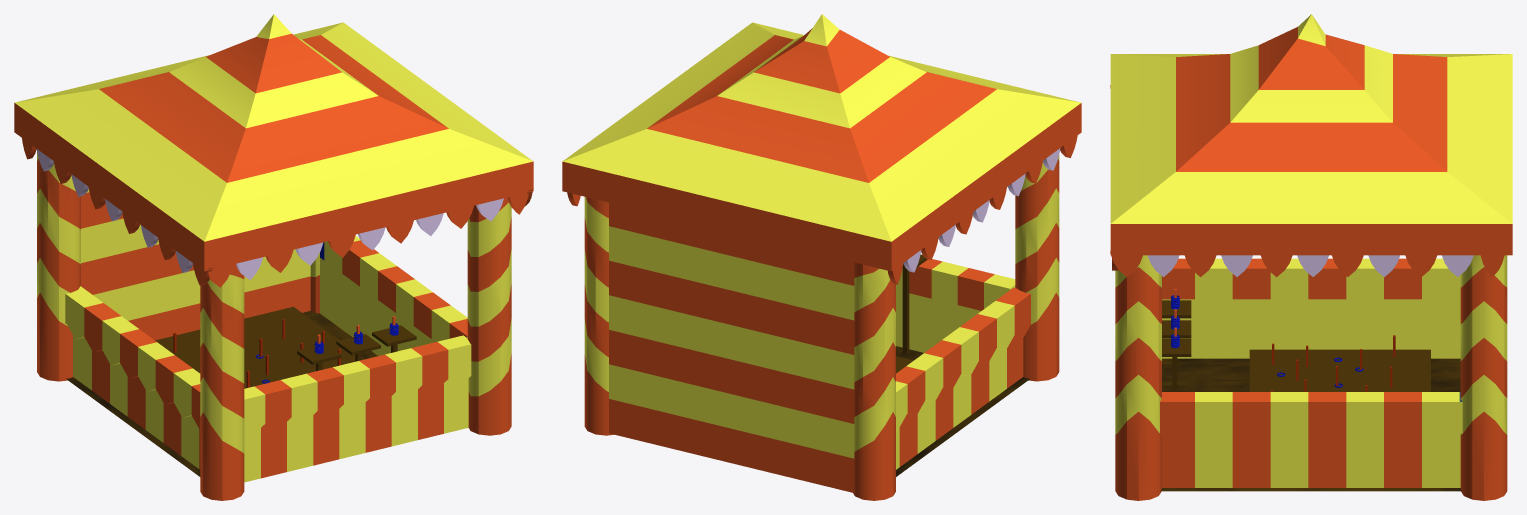
The model's file is BarracaArgola.fbx.
3 views of the same model, side by side, from view 1: azimuth 30°, elevation 25°; view 2: azimuth 150°, elevation 25°; view 3: azimuth 270°, elevation 25° (orthographic). The views are drawn at different scales.
Parts seen in each view (by area): view 1: BarraquinhaDeArgola, Alvos, Bandeirinhas.001, Municao; view 2: BarraquinhaDeArgola, Bandeirinhas.001, Municao; view 3: BarraquinhaDeArgola, Alvos, Bandeirinhas.001, Municao.
Part boxes in pixels (left/top/right/bottom): BarraquinhaDeArgola: left=14, top=14, right=533, bottom=500; Alvos: left=155, top=306, right=364, bottom=388; Bandeirinhas.001: left=22, top=138, right=533, bottom=287; Municao: left=297, top=316, right=416, bottom=371; BarraquinhaDeArgola: left=562, top=14, right=1081, bottom=500; Bandeirinhas.001: left=567, top=135, right=1077, bottom=284; Municao: left=902, top=254, right=927, bottom=354; BarraquinhaDeArgola: left=1110, top=14, right=1512, bottom=500; Alvos: left=1249, top=335, right=1430, bottom=391; Bandeirinhas.001: left=1110, top=85, right=1504, bottom=277; Municao: left=1162, top=289, right=1191, bottom=391.
Bounding box in the file's own units: 592 × 662 × 592.
1 material, 1 textured.
